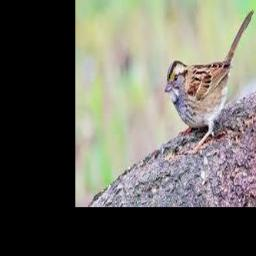Sparrow: (165, 10, 254, 154)
